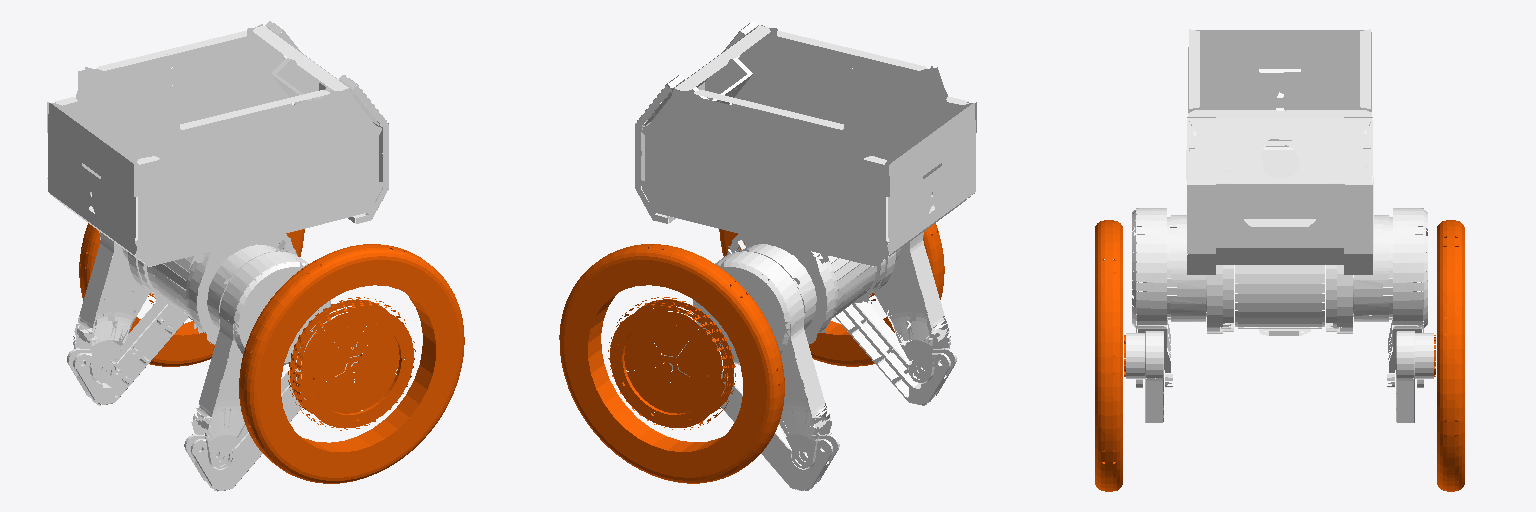
robot.urdf — diablo_plus_pro:
<?xml version="1.0" encoding="utf-8"?>
<!-- This URDF was automatically created by SolidWorks to URDF Exporter! Originally created by [author] ([email redacted]) 
     Commit Version: 1.6.0-4-g7f85cfe  Build Version: 1.6.7995.38578
     For more information, please see http://wiki.ros.org/sw_urdf_exporter -->
<robot
  name="diablo_plus_pro">
  <material name="black">
      <color rgba="0.0 0.0 0.0 1.0"/>
  </material>
  <material name="blue">
      <color rgba="0.0 0.0 0.8 1.0"/>
  </material>
  <material name="green">
      <color rgba="0.0 0.8 0.0 1.0"/>
  </material>
  <material name="grey">
      <color rgba="0.2 0.2 0.2 1.0"/>
  </material>
  <material name="silver">
      <color rgba="0.9137254901960784 0.9137254901960784 0.8470588235294118 1.0"/>
  </material>
  <material name="orange">
      <color rgba="1.0 0.4235294117647059 0.0392156862745098 1.0"/>
  </material>
  <material name="brown">
      <color rgba="0.8705882352941177 0.8117647058823529 0.7647058823529411 1.0"/>
  </material>
  <material name="red">
      <color rgba="0.8 0.0 0.0 1.0"/>
  </material>
  <material name="white">
      <color rgba="1.0 1.0 1.0 1.0"/>
  </material>
  <link
    name="base_link">
    <inertial>
      <origin
        xyz="0.02817 -0.0049865 0.16853"
        rpy="0 0 0" />
      <mass
        value="8.53" />
      <inertia
        ixx="0.8371974"
        ixy="-0.06254957"
        ixz="-0.01618499"
        iyy="0.8708397"
        iyz="0.003006719"
        izz="0.3425067" />
    </inertial>
    <visual>
      <origin
        xyz="0 0 0"
        rpy="0 0 0" />
      <geometry>
        <mesh
          filename="../meshes/base_link.STL" />
      </geometry>
      <material
        name="">
        <color
          rgba="1 1 1 1" />
      </material>
    </visual>
    <collision>
      <origin
        xyz="0 0 0"
        rpy="0 0 0" />
      <geometry>
        <mesh
          filename="../meshes/base_link.STL" />
      </geometry>
    </collision>
  </link>
  <link
    name="left_hip_link">
    <inertial>
      <origin
        xyz="-0.02147 0.083955 -0.036946"
        rpy="0 0 0" />
      <mass
        value="5.1" />
      <inertia
        ixx="0.01137421"
        ixy="0.00070511460"
        ixz="0.00124554"
        iyy="0.0082006541"
        iyz="0.0029798900"
        izz="0.0060506903" />
    </inertial>
    <visual>
      <origin
        xyz="0 0 0"
        rpy="0 0 0" />
      <geometry>
        <mesh
          filename="../meshes/left_hip_link.STL" />
      </geometry>
      <material
        name="">
        <color
          rgba="1 1 1 1" />
      </material>
    </visual>
    <collision>
      <origin
        xyz="0 0 0"
        rpy="0 0 0" />
      <geometry>
        <mesh
          filename="../meshes/left_hip_link.STL" />
      </geometry>
    </collision>
  </link>
  <joint
    name="left_hip_joint"
    type="revolute">
    <origin
      xyz="0 0.0428 0.075997"
      rpy="0 0 0" />
    <parent
      link="base_link" />
    <child
      link="left_hip_link" />
    <axis
      xyz="0 1 0" />
    <limit
      lower="-1.57"
      upper="1.57"
      effort="80"
      velocity="15" />
  </joint>
  <link
    name="left_knee_link">
    <inertial>
      <origin
        xyz="0.091371 -0.0059746 0.042483"
        rpy="0 0 0" />
      <mass
        value="2.17" />
      <inertia
        ixx="0.0044665319"
        ixy="1.2345077E-05"
        ixz="-0.00023975799"
        iyy="0.0046256777"
        iyz="-0.00022848392"
        izz="0.0002702575" />
    </inertial>
    <visual>
      <origin
        xyz="0 0 0"
        rpy="0 0 0" />
      <geometry>
        <mesh
          filename="../meshes/left_knee_link.STL" />
      </geometry>
      <material
        name="">
        <color
          rgba="1 1 1 1" />
      </material>
    </visual>
    <collision>
      <origin
        xyz="0 0 0"
        rpy="0 0 0" />
      <geometry>
        <mesh
          filename="../meshes/left_knee_link.STL" />
      </geometry>
    </collision>
  </link>
  <joint
    name="left_knee_joint"
    type="revolute">
    <origin
      xyz="-0.088027 0.11148 -0.17958"
      rpy="0 0 0" />
    <parent
      link="left_hip_link" />
    <child
      link="left_knee_link" />
    <axis
      xyz="0 1 0" />
    <limit 
      lower="0"
      upper="1.20"
      effort="80"
      velocity="15" />
  </joint>
  <link
    name="left_wheel_link">
    <inertial>
      <origin
        xyz="-2.0379E-06 0.019153 -4.2928E-07"
        rpy="0 0 0" />
      <mass
        value="2.0" />
      <inertia
        ixx="0.013847"
        ixy="-1.0562E-07"
        ixz="4.372E-10"
        iyy="0.027351"
        iyz="-3.2677E-08"
        izz="0.013847" />
    </inertial>
    <visual>
      <origin
        xyz="0 0 0"
        rpy="0 0 0" />
      <geometry>
        <mesh
          filename="../meshes/left_wheel_link.STL" />
      </geometry>
      <material name="orange">
          <color rgba="1.0 0.4235294117647059 0.0392156862745098 1.0"/>
      </material>
    </visual>
    <collision>
      <origin
        xyz="0 0.02 0"
        rpy="1.5707963 0 0" />
      <geometry>
        <cylinder radius="0.16" length="0.035"/>
      </geometry>
    </collision>
  </link>
  <joint
    name="left_wheel_joint"
    type="revolute">
    <origin
      xyz="0.17064 0.02266 0.10432"
      rpy="0 0 0" />
    <parent
      link="left_knee_link" />
    <child
      link="left_wheel_link" />
    <axis
      xyz="0 1 0" />
    <limit
      lower="-1000000" 
      upper="1000000"      
      effort="20"
      velocity="30" />
  </joint>
  <link
    name="right_hip_link">
    <inertial>
      <origin
        xyz="-0.02147 -0.083955 -0.036946"
        rpy="0 0 0" />
      <mass
        value="5.1" />
      <inertia
        ixx="0.01137421"
        ixy="0.00070511460"
        ixz="0.00124554"
        iyy="0.0082006541"
        iyz="0.0029798900"
        izz="0.0060506903" />
    </inertial>
    <visual>
      <origin
        xyz="0 0 0"
        rpy="0 0 0" />
      <geometry>
        <mesh
          filename="../meshes/right_hip_link.STL" />
      </geometry>
      <material
        name="">
        <color
          rgba="1 1 1 1" />
      </material>
    </visual>
    <collision>
      <origin
        xyz="0 0 0"
        rpy="0 0 0" />
      <geometry>
        <mesh
          filename="../meshes/right_hip_link.STL" />
      </geometry>
    </collision>
  </link>
  <joint
    name="right_hip_joint"
    type="revolute">
    <origin
      xyz="0 -0.0528 0.075997"
      rpy="0 0 0" />
    <parent
      link="base_link" />
    <child
      link="right_hip_link" />
    <axis
      xyz="0 1 0" />
    <limit
      lower="-1.57"
      upper="1.57"
      effort="80"
      velocity="15" />  
  </joint>
  <link
    name="right_knee_link">
    <inertial>
      <origin
        xyz="0.091173 -0.0018038 0.042402"
        rpy="0 0 0" />
      <mass
        value="2.17" />
      <inertia
        ixx="0.0044665319"
        ixy="1.2345077E-05"
        ixz="-0.00023975799"
        iyy="0.0046256777"
        iyz="-0.00022848392"
        izz="0.0002702575" />
    </inertial>
    <visual>
      <origin
        xyz="0 0 0"
        rpy="0 0 0" />
      <geometry>
        <mesh
          filename="../meshes/right_knee_link.STL" />
      </geometry>
      <material
        name="">
        <color
          rgba="1 1 1 1" />
      </material>
    </visual>
    <collision>
      <origin
        xyz="0 0 0"
        rpy="0 0 0" />
      <geometry>
        <mesh
          filename="../meshes/right_knee_link.STL" />
      </geometry>
    </collision>
  </link>
  <joint
    name="right_knee_joint"
    type="revolute">
    <origin
      xyz="-0.088029 -0.10364 -0.17958"
      rpy="0 0 0" />
    <parent
      link="right_hip_link" />
    <child
      link="right_knee_link" />
    <axis
      xyz="0 1 0" />
    <limit
      lower="0"
      upper="1.20"
      effort="80"
      velocity="15" />
  </joint>
  <link
    name="right_wheel_link">
    <inertial>
      <origin
        xyz="7.6456E-08 -0.019153 -2.0799E-06"
        rpy="0 0 0" />
      <mass
        value="2.00" />
      <inertia
        ixx="0.013847"
        ixy="4.8112E-09"
        ixz="-1.9773E-09"
        iyy="0.027351"
        iyz="1.0933E-07"
        izz="0.013847" />
    </inertial>
    <visual>
      <origin
        xyz="0 0 0"
        rpy="0 0 0" />
      <geometry>
        <mesh
          filename="../meshes/right_wheel_link.STL" />
      </geometry>
      <material name="orange">
          <color rgba="1.0 0.4235294117647059 0.0392156862745098 1.0"/>
      </material>
    </visual>
    <collision>
      <origin
        xyz="0 -0.02 0"
        rpy="1.5707963 0 0" />
      <geometry>
        <cylinder radius="0.16" length="0.035"/>
      </geometry>
    </collision>
  </link>
  <joint
    name="right_wheel_joint"
    type="revolute">
    <origin
      xyz="0.17064 -0.03046 0.10432"
      rpy="0 0 0" />
    <parent
      link="right_knee_link" />
    <child
      link="right_wheel_link" />
    <axis
      xyz="0 1 0" />
    <limit
      lower="-1000000" 
      upper="1000000"      
      effort="20"
      velocity="30" />
  </joint>
</robot>

--- What the picture shows (computed from the rendered views, not written in the file) ---
3 views of the same robot in one strip: view 1: azimuth 30°, elevation 25°; view 2: azimuth 150°, elevation 25°; view 3: azimuth 270°, elevation 25° (orthographic).
Robot: diablo_plus_pro — 7 links, 6 joints (6 revolute); root link base_link; default pose: every joint at zero.
Links seen in each view (by area): view 1: base_link, right_wheel_link, right_hip_link, left_hip_link, left_knee_link, left_wheel_link, right_knee_link; view 2: base_link, left_wheel_link, left_hip_link, right_hip_link, right_knee_link, right_wheel_link, left_knee_link; view 3: base_link, right_hip_link, left_hip_link, right_wheel_link, left_wheel_link, left_knee_link, right_knee_link.
Link boxes in pixels (x1=…): base_link: x1=47, y1=21, x2=388, y2=344; right_wheel_link: x1=239, y1=244, x2=464, y2=483; right_hip_link: x1=191, y1=244, x2=330, y2=469; left_hip_link: x1=73, y1=231, x2=190, y2=383; left_knee_link: x1=67, y1=302, x2=188, y2=405; left_wheel_link: x1=79, y1=223, x2=304, y2=366; right_knee_link: x1=184, y1=330, x2=359, y2=491; base_link: x1=635, y1=21, x2=976, y2=343; left_wheel_link: x1=559, y1=244, x2=784, y2=483; left_hip_link: x1=693, y1=244, x2=831, y2=469; right_hip_link: x1=831, y1=231, x2=950, y2=383; right_knee_link: x1=835, y1=301, x2=956, y2=405; right_wheel_link: x1=719, y1=223, x2=944, y2=366; left_knee_link: x1=664, y1=329, x2=839, y2=490; base_link: x1=1186, y1=29, x2=1373, y2=335; right_hip_link: x1=1132, y1=208, x2=1206, y2=387; left_hip_link: x1=1353, y1=208, x2=1427, y2=387; right_wheel_link: x1=1095, y1=220, x2=1125, y2=491; left_wheel_link: x1=1434, y1=220, x2=1464, y2=491; left_knee_link: x1=1396, y1=331, x2=1433, y2=422; right_knee_link: x1=1126, y1=331, x2=1163, y2=422.
Bounding box of the posed robot: 0.4236 × 0.4384 × 0.4987 m (x, y, z).
Meshes: 7 distinct files referenced, 7 mesh visuals loaded (7 binary STL).
